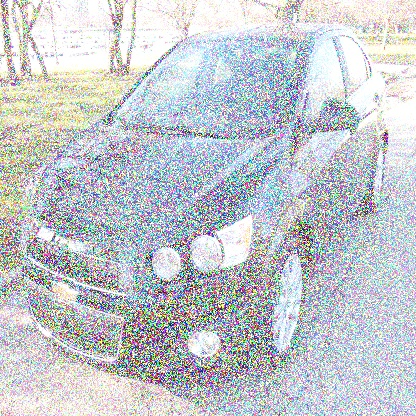Vehicle: (20, 20, 390, 385)
